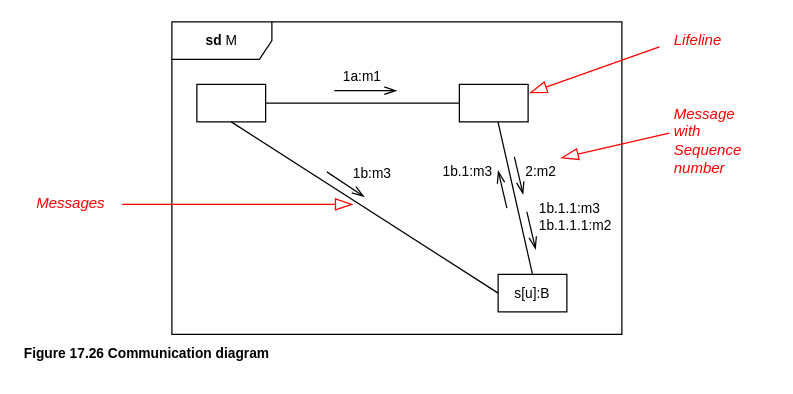
Image size: 793x394. Some labels were removed from this diagram. The shapes that lost their labels are listed below. From the top down, each one's centre as x and y in pixels, then its label:
point 231,102: :r
point 493,102: s[k]:B
